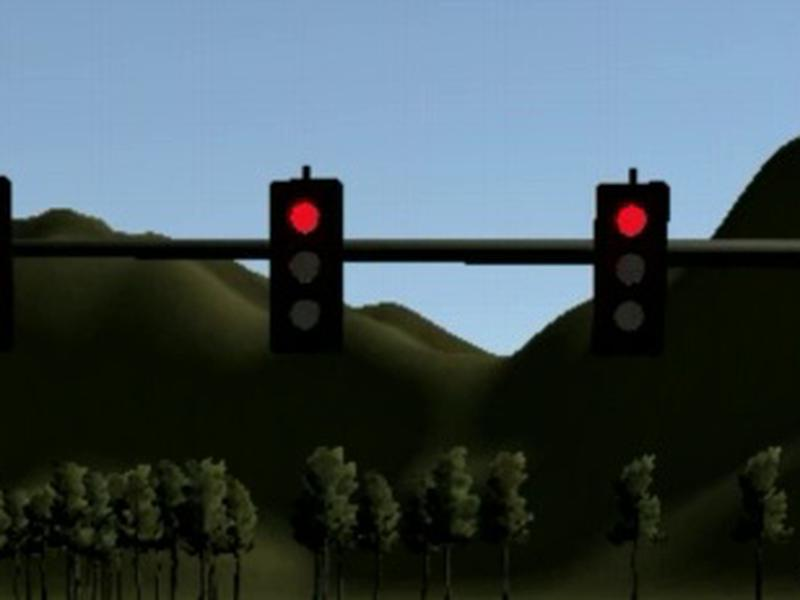Red: (593, 181, 671, 349), (270, 179, 344, 350)
